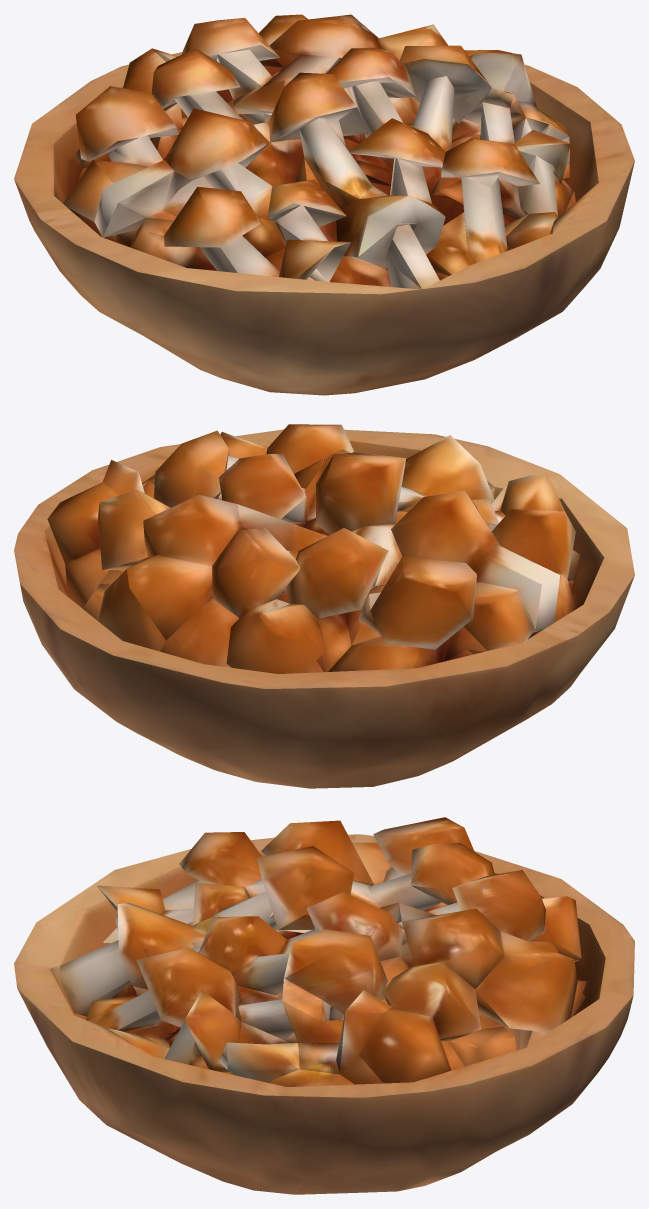
File: mushroomBowlR.glb
3 renders of one model, top to bottom at view 1: azimuth 30°, elevation 25°; view 2: azimuth 150°, elevation 25°; view 3: azimuth 270°, elevation 25°, orthographic.
Visible parts, largest first — view 1: model; view 2: model; view 3: model.
Part boxes in pixels (x1,y1,x2,y2): model: [14, 14, 634, 395]; model: [14, 424, 634, 788]; model: [14, 817, 634, 1194].
Bounding box in the file's own units: 1.9 × 0.8728 × 1.89.
Materials: 1 (1 with a texture image).
